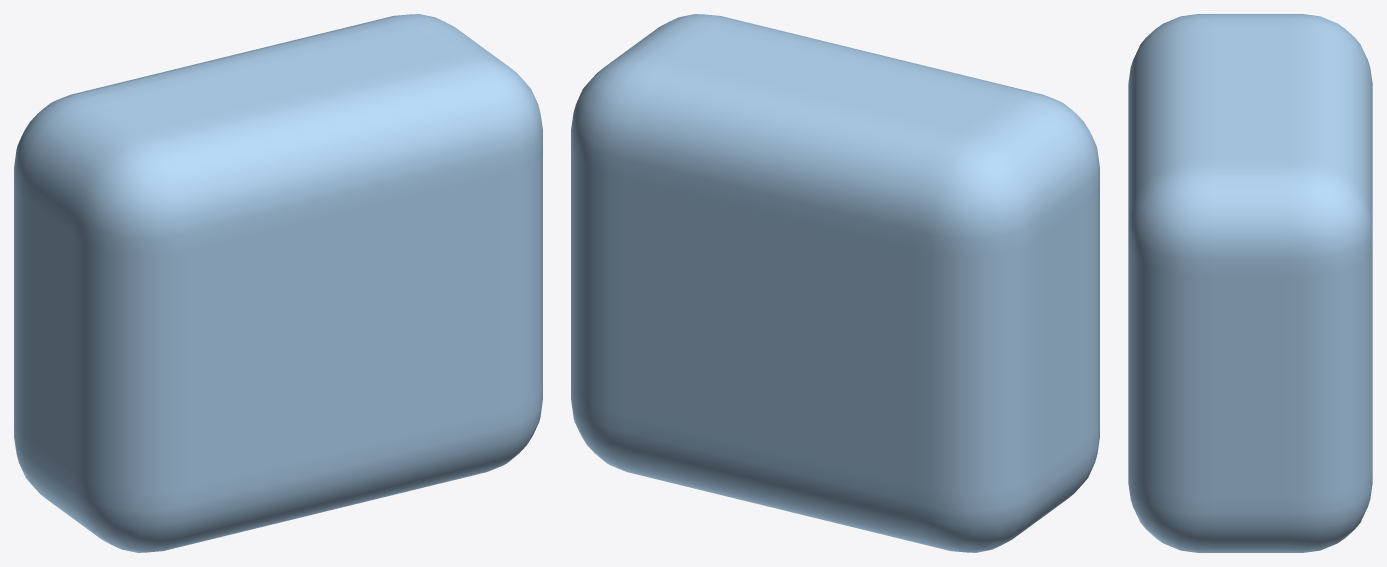
The model's file is 101_right_waveguide_input_coupler.glb.
The picture shows the model from 3 angles, left to right: view 1: azimuth 30°, elevation 25°; view 2: azimuth 150°, elevation 25°; view 3: azimuth 270°, elevation 25°; orthographic projection. The views are drawn at different scales.
Parts seen in each view (by area): view 1: 101 | Right Waveguide Input Coupler; view 2: 101 | Right Waveguide Input Coupler; view 3: 101 | Right Waveguide Input Coupler.
Part boxes in pixels (box(x1,y1,x2,y2)): 101 | Right Waveguide Input Coupler: box(14, 14, 542, 552); 101 | Right Waveguide Input Coupler: box(571, 14, 1099, 552); 101 | Right Waveguide Input Coupler: box(1128, 14, 1372, 552).
Bounding box in the file's own units: 0.0028 × 0.0024 × 0.0014.
